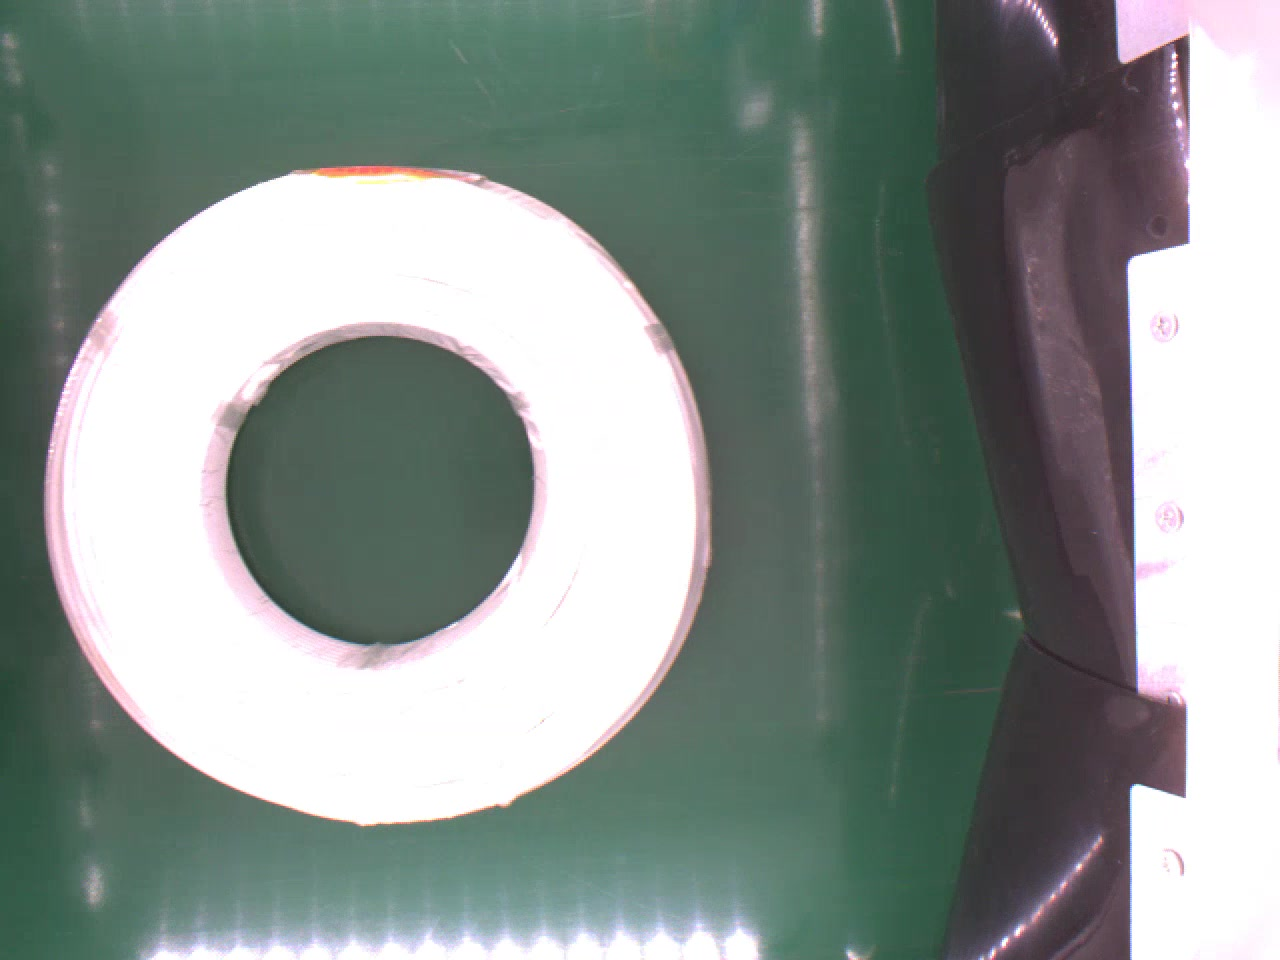white: (39, 162, 715, 831)
